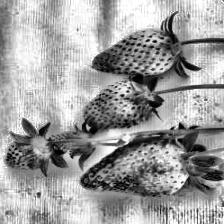Powdery Mildew Fruit: (80, 140, 191, 198)
